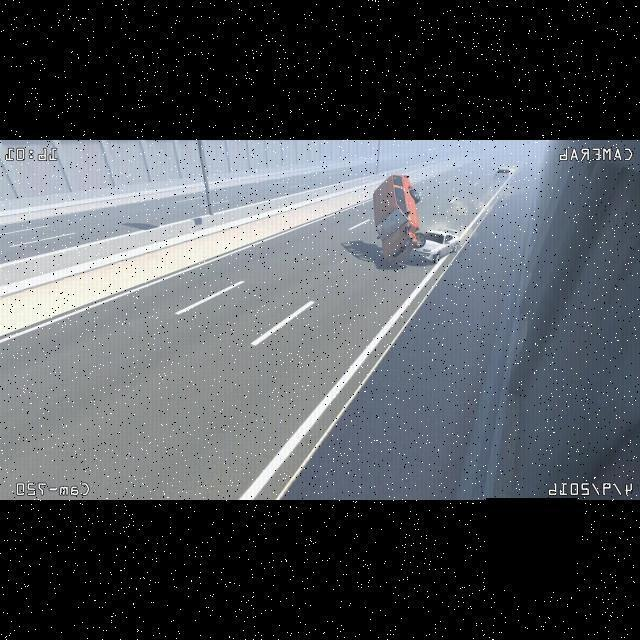multiple_accident: (323, 108, 525, 333)
single accident: (8, 498, 598, 638)
